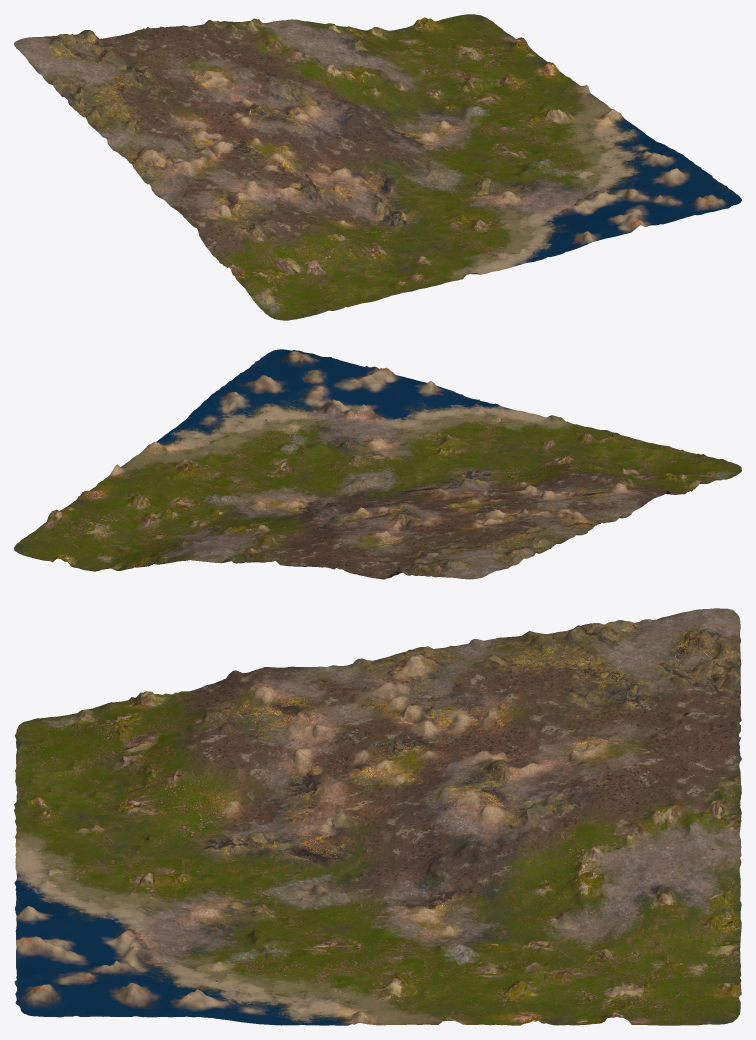
Rendered from seabed_visual.obj.
3 views of the same model, one above another, from view 1: azimuth 30°, elevation 25°; view 2: azimuth 150°, elevation 25°; view 3: azimuth 270°, elevation 25° (orthographic). The views are drawn at different scales.
Visible parts, largest first — view 1: seabed_visual; view 2: seabed_visual; view 3: seabed_visual.
Part boxes in pixels (x1,y1,x2,y2): seabed_visual: (14,14,741,320); seabed_visual: (14,349,741,579); seabed_visual: (14,608,741,1025).
Size of what is drawn, in the model's own units: 57.84 by 10.22 by 57.87.
1 material, 1 textured.
